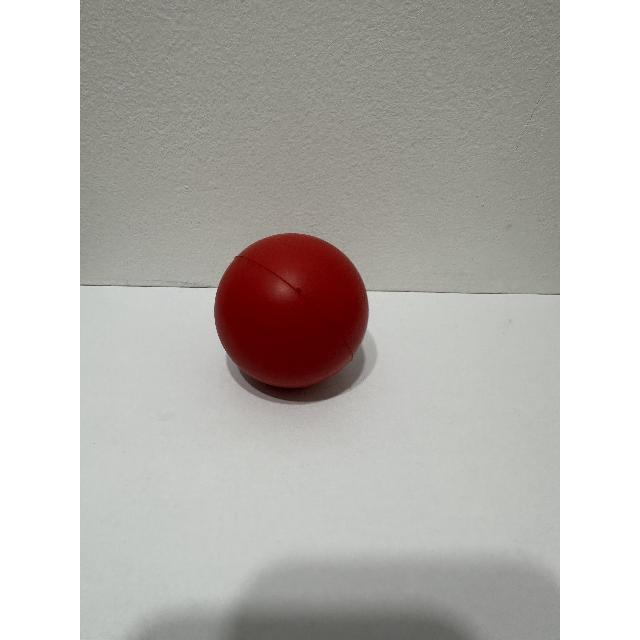red_ball: (209, 225, 385, 405)
